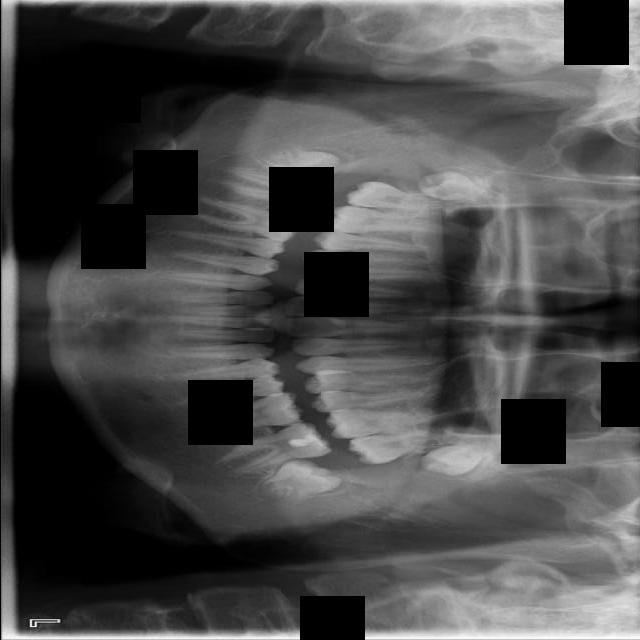3M ESPE Implant: (413, 164, 493, 209)
52: (274, 415, 332, 468)
73: (52, 614, 66, 628)
BioHorizons Implant: (346, 425, 458, 467)
BioLife Implant: (417, 438, 502, 480)
Biomet 3i Implant: (256, 447, 343, 511)
Blue Sky Bio Implant: (217, 417, 332, 477)
Caries: (344, 180, 453, 213)
Implant: (219, 167, 331, 216)
Keystone Dental Implant: (249, 136, 340, 190)
